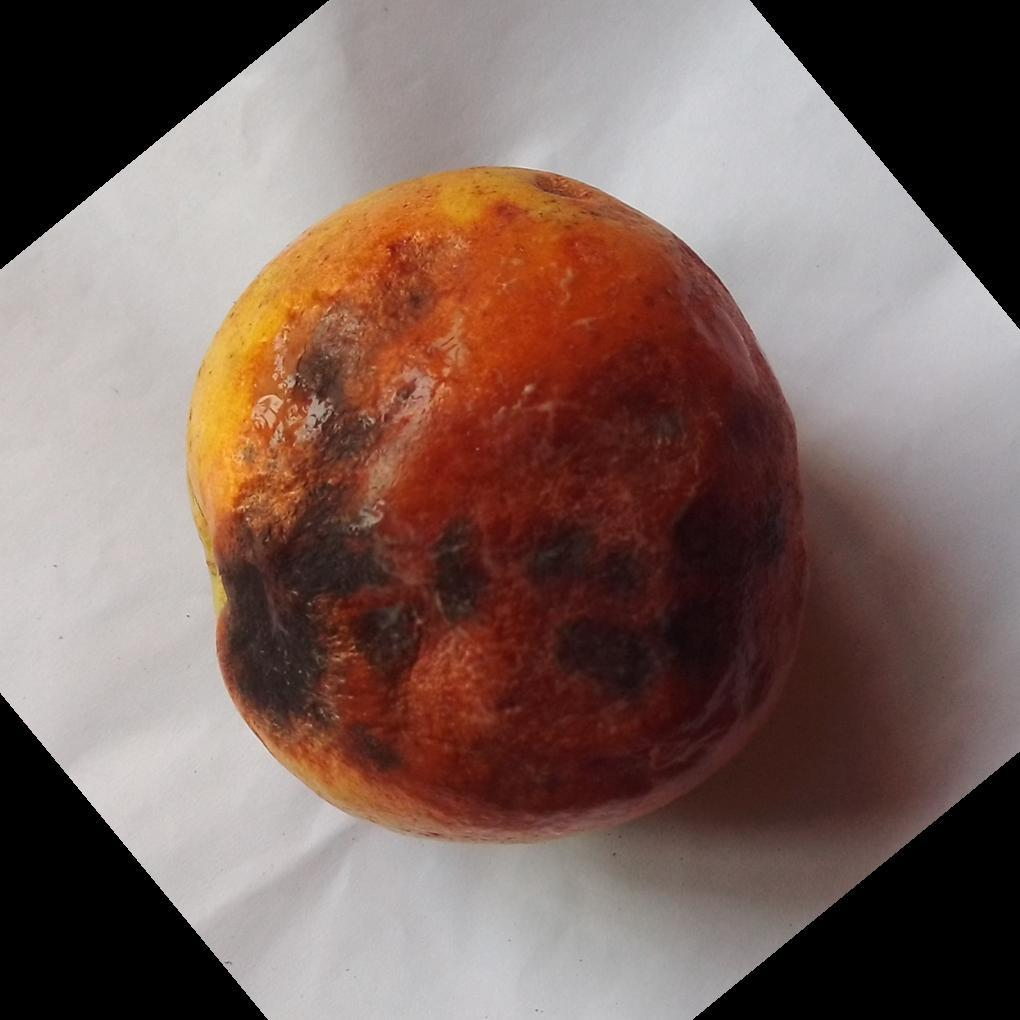FreshOrange: (184, 167, 811, 848)
